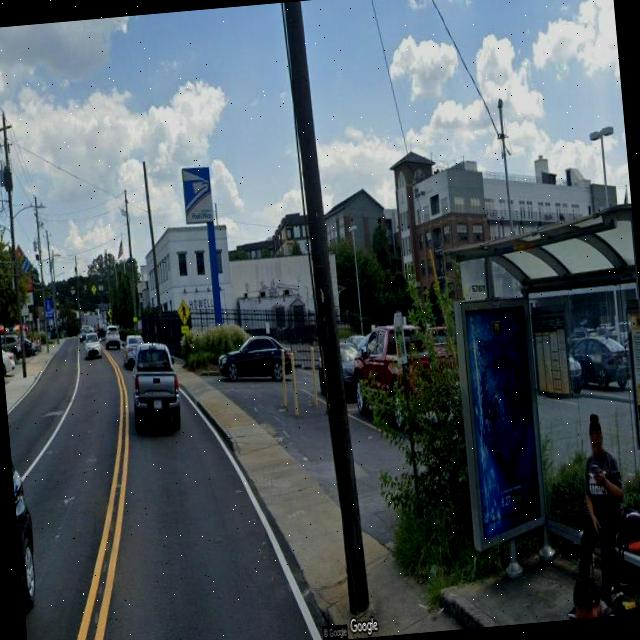seating: (582, 516, 640, 614)
shelter: (438, 202, 640, 627)
